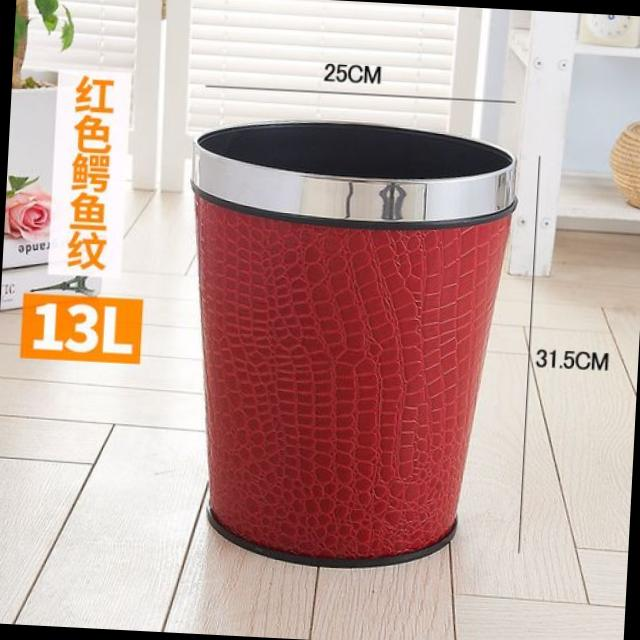dustbin: (160, 105, 530, 586)
